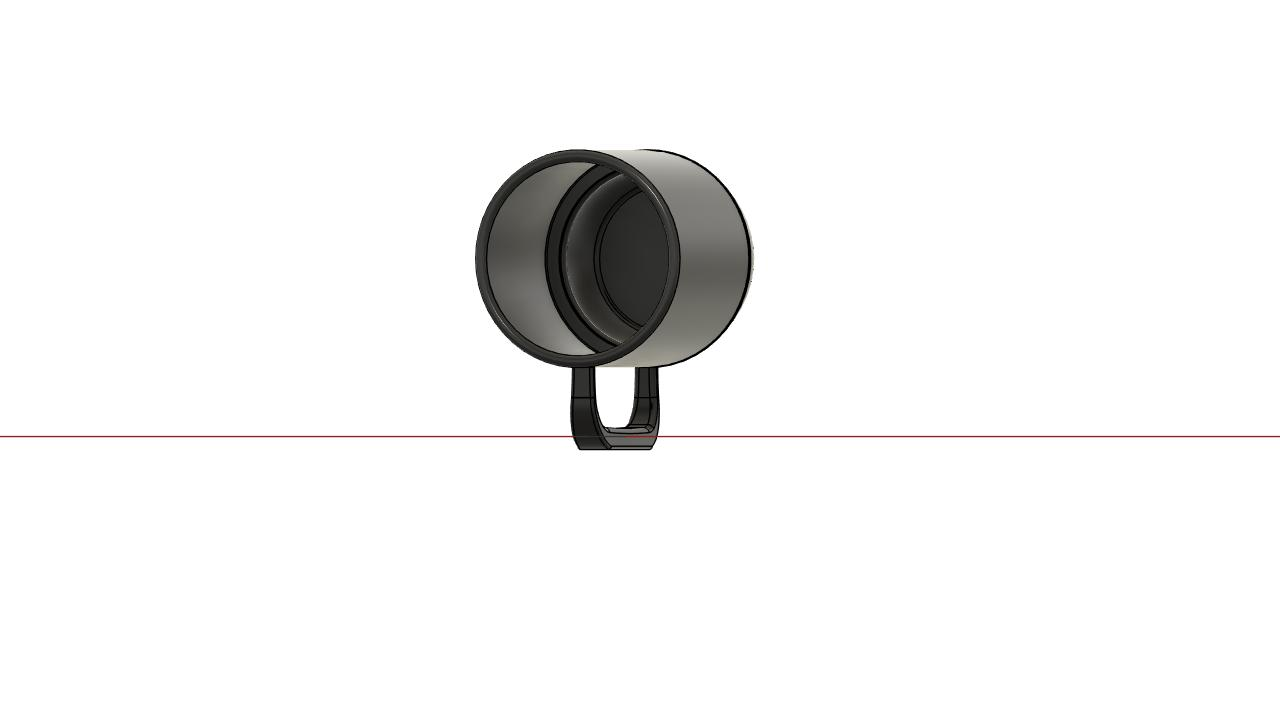mug-real100-3d100: (477, 150, 752, 449)
